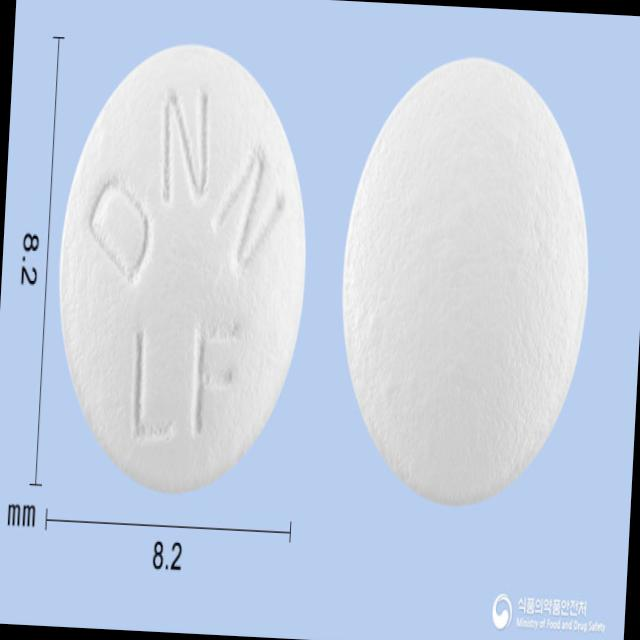Levoflcin: (48, 38, 320, 502)
